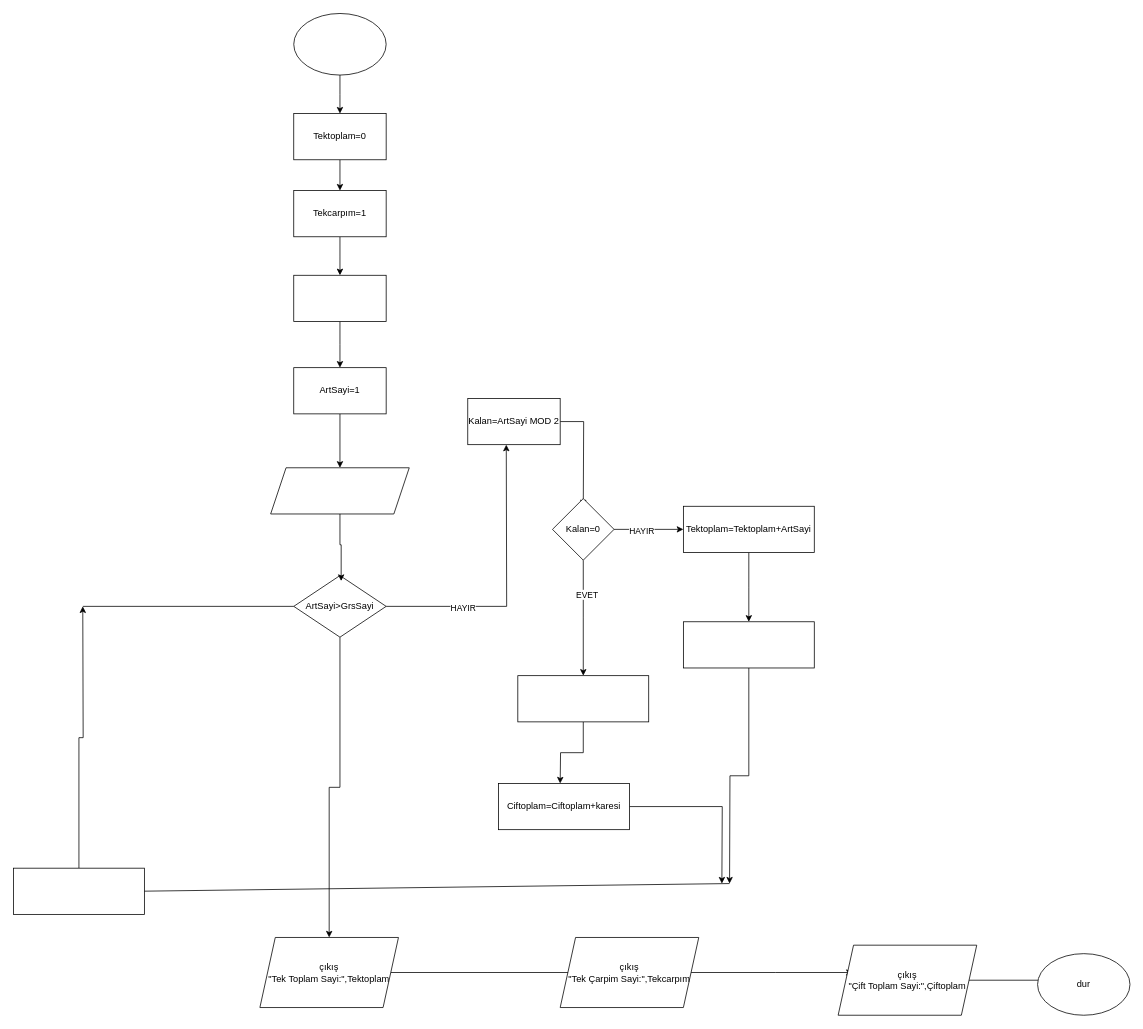
Some shapes in this 1143 by 1029 pixel diagram are drawn without their labels. Each missing label, with the box of its shape:
ArtSayi=ArtSayi+1: (13, 867, 144, 914)
başla: (293, 13, 386, 75)
Ciftoplam=0: (293, 275, 386, 321)
giriş "Bir Sayı Giriniz:",GrsSayi: (270, 467, 409, 514)
karesi=ArtSayi*ArtSayi: (517, 675, 649, 722)
Tekcarpım=Tekcarpım*ArtSayi: (683, 621, 814, 668)
